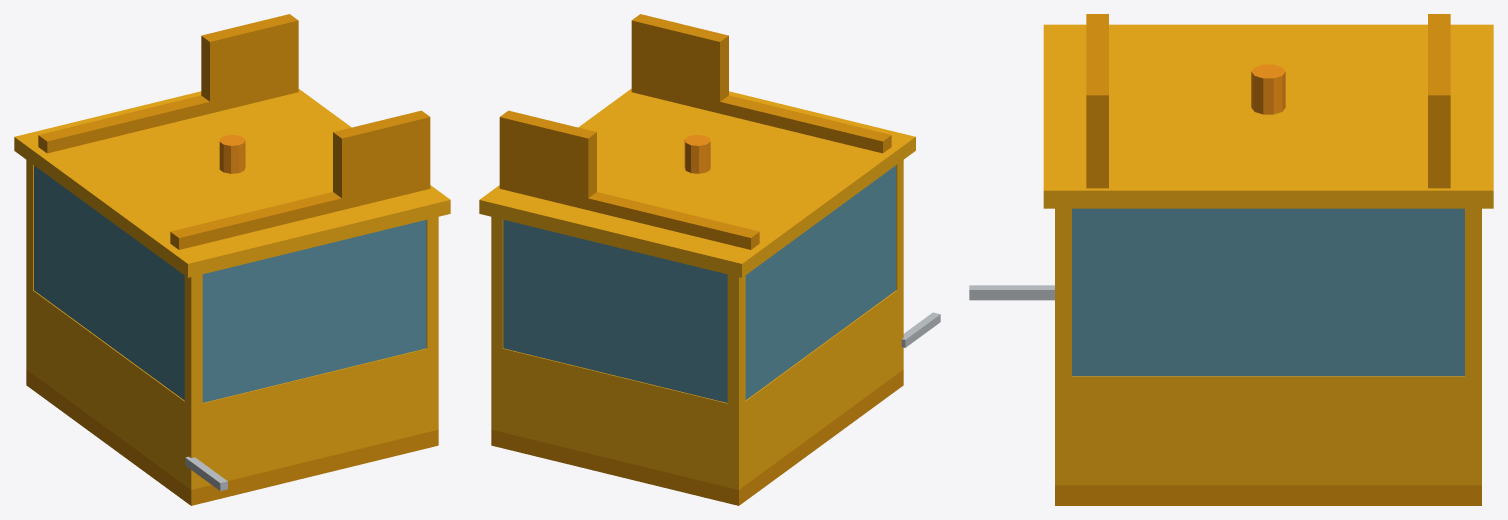
File: body.obj
3 renders of one model, left to right at view 1: azimuth 30°, elevation 25°; view 2: azimuth 150°, elevation 25°; view 3: azimuth 270°, elevation 25°, orthographic. The views are drawn at different scales.
Size of the model in its own units: 1.38 by 1.6 by 1.84.
